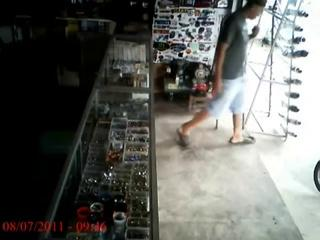Normal: (175, 1, 266, 146)
